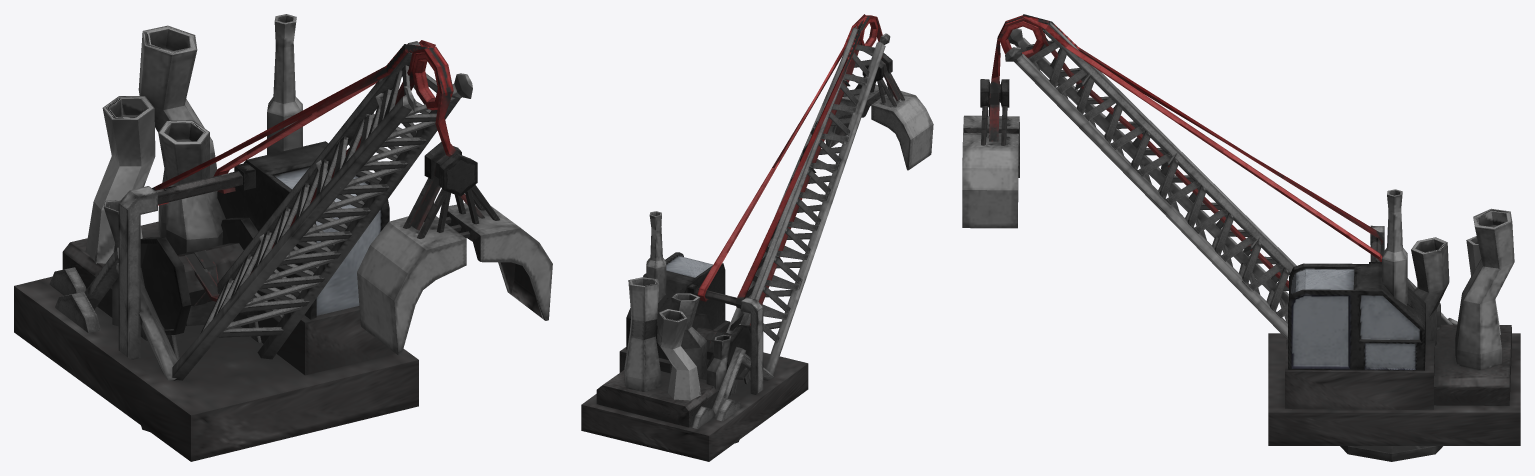
The model's file is crane_top.glb.
3 views of the same model, side by side, from view 1: azimuth 30°, elevation 25°; view 2: azimuth 150°, elevation 25°; view 3: azimuth 270°, elevation 25° (orthographic). The views are drawn at different scales.
Visible parts, largest first — view 1: crane_top; view 2: crane_top; view 3: crane_top.
Part boxes in pixels (box(x1,y1,x2,y2)): crane_top: box(14, 14, 552, 461); crane_top: box(581, 14, 933, 461); crane_top: box(962, 14, 1520, 461).
Bounding box in the file's own units: 2.99 × 6.8 × 8.54.
1 material, 1 textured.
